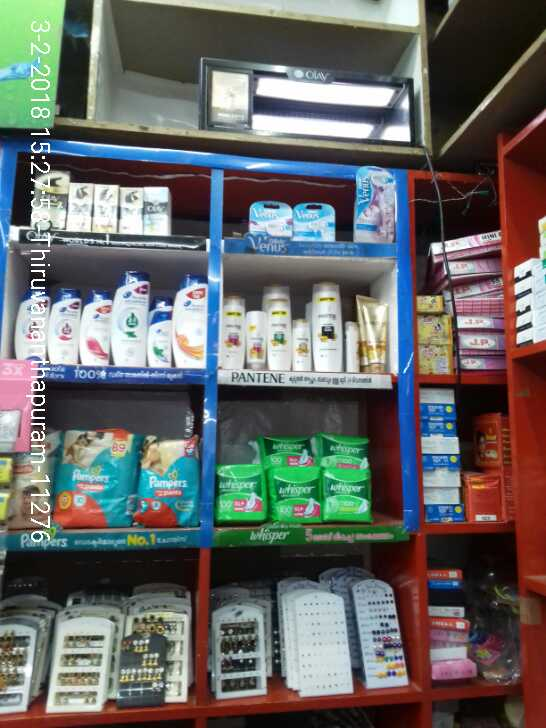venus: (354, 170, 395, 241), (293, 206, 335, 239), (253, 205, 291, 233)
